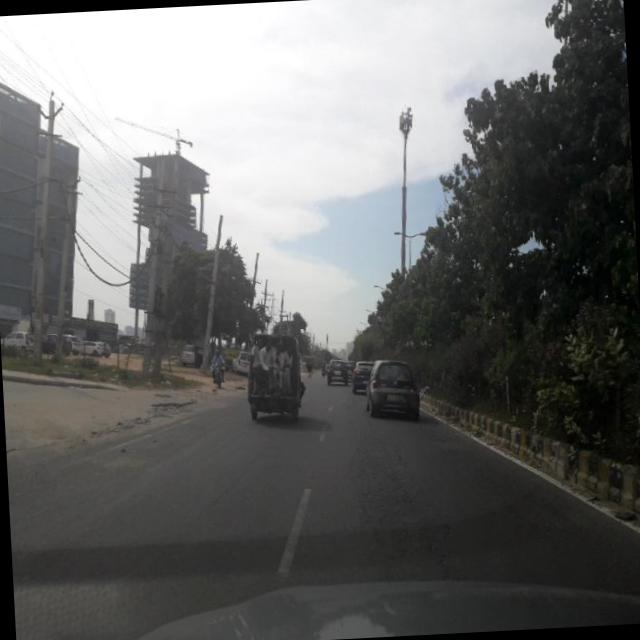crack: (328, 416, 458, 582), (464, 418, 593, 576)
